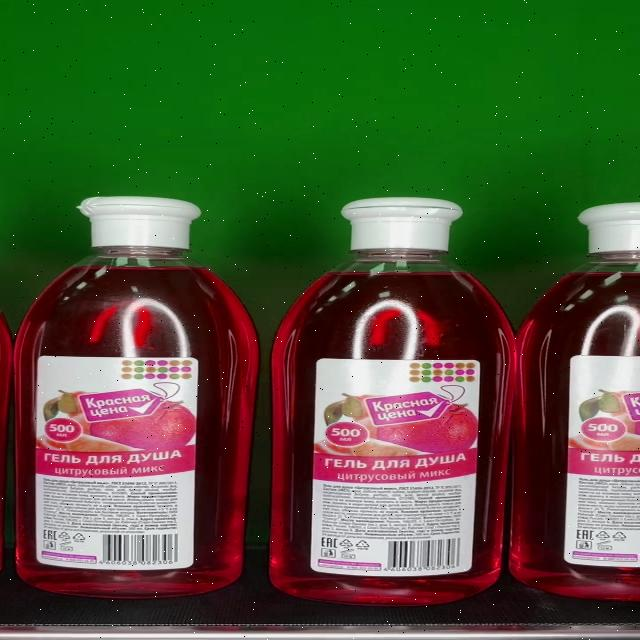Bottle: (271, 198, 519, 604), (19, 197, 259, 599)
Cap: (340, 198, 464, 252), (83, 198, 202, 248)
